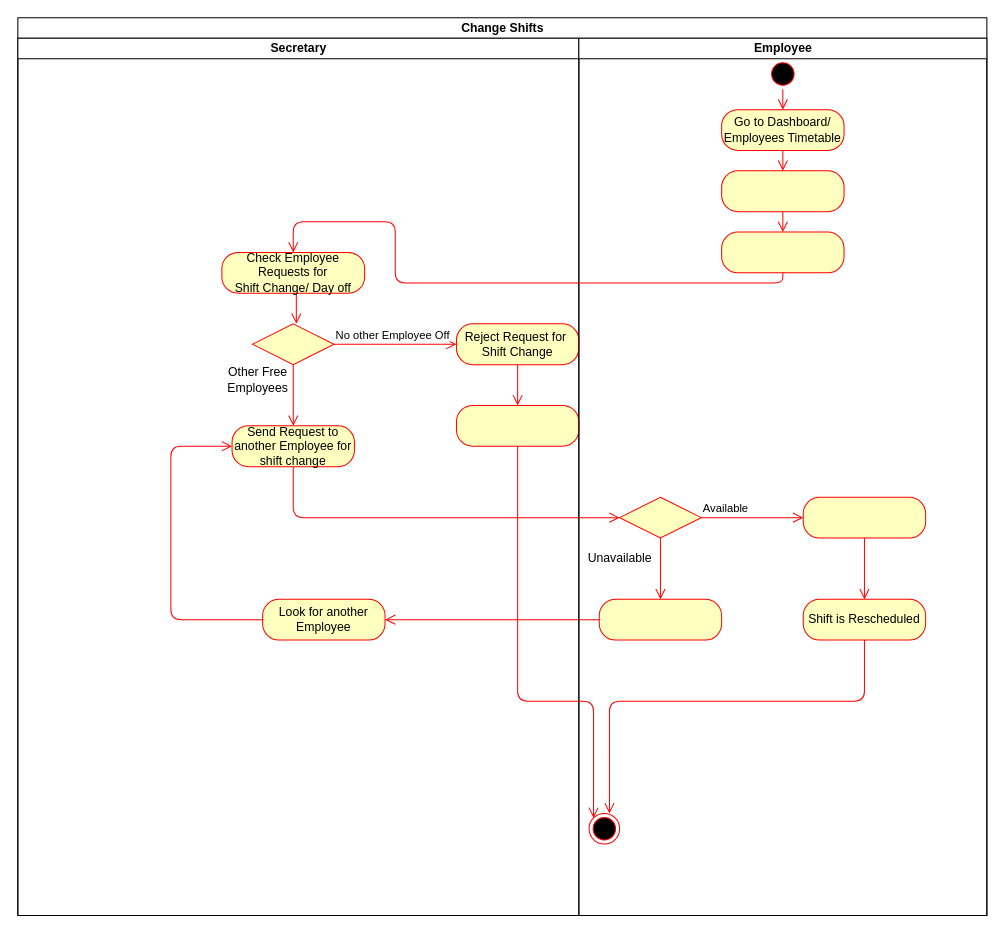
Some shapes in this 1005 by 933 pixel diagram are drawn without their labels. Here are the shapes that lost their labels. From the top down, the box of each, then its label:
(721, 170, 844, 212): Select a shift to change
(721, 231, 844, 273): Send a request for shift Change
(455, 404, 579, 446): Shift remains the same
(802, 496, 926, 538): Accept shift change
(598, 598, 722, 640): Reject shift change
